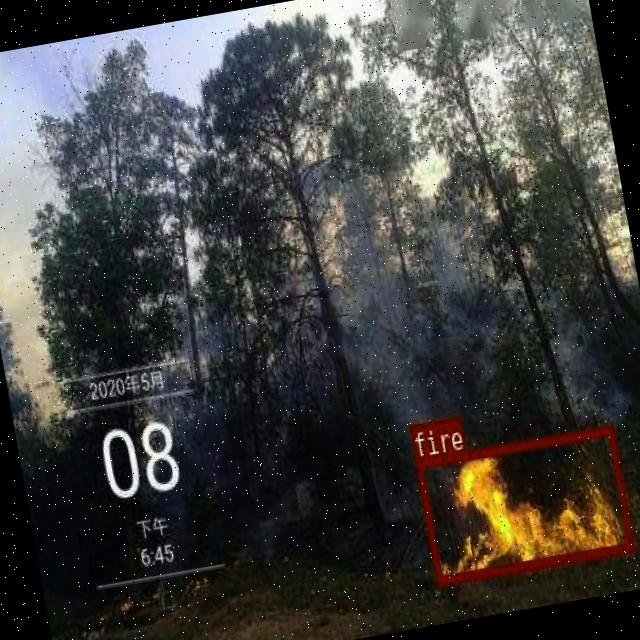fire: (414, 423, 634, 584)
